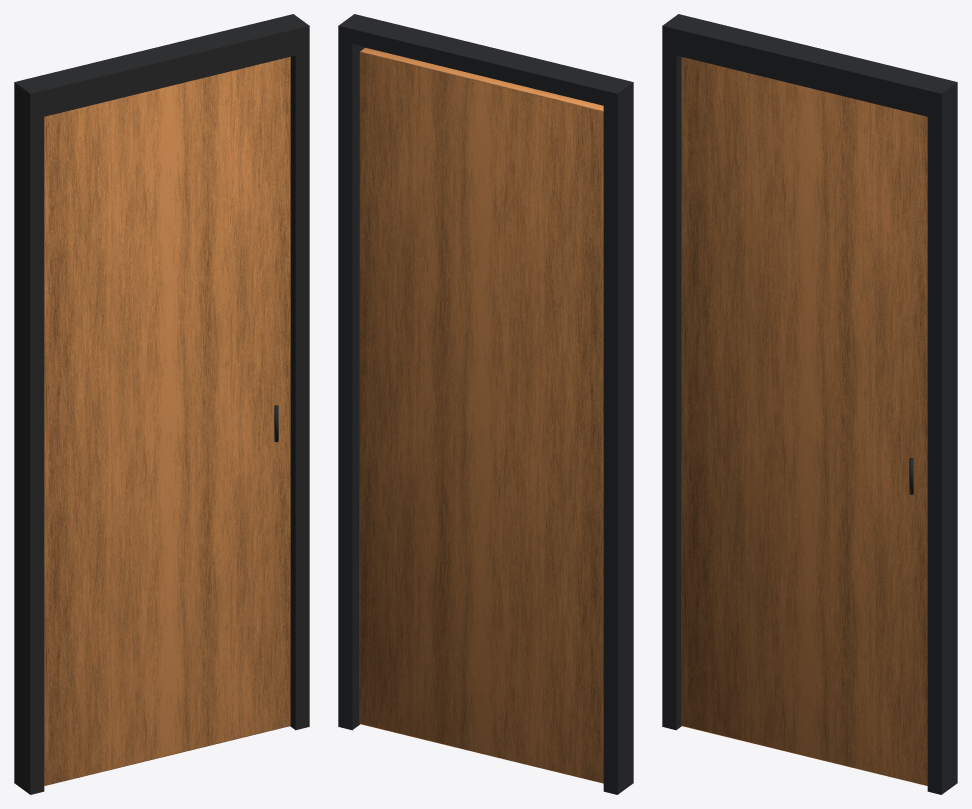
File: architecture.barn-sliding-door.glb
3 renders of one model, left to right at view 1: azimuth 30°, elevation 25°; view 2: azimuth 150°, elevation 25°; view 3: azimuth 330°, elevation 25°, orthographic.
Parts seen in each view (by area): view 1: architecture.barn-sliding-door.001; view 2: architecture.barn-sliding-door.001; view 3: architecture.barn-sliding-door.001.
Part boxes in pixels (bbox=[...]): architecture.barn-sliding-door.001: bbox=[14, 14, 309, 794]; architecture.barn-sliding-door.001: bbox=[338, 14, 633, 794]; architecture.barn-sliding-door.001: bbox=[662, 14, 957, 794].
Bounding box in the file's own units: 1 × 2.4 × 0.1.
2 materials, 1 textured.
